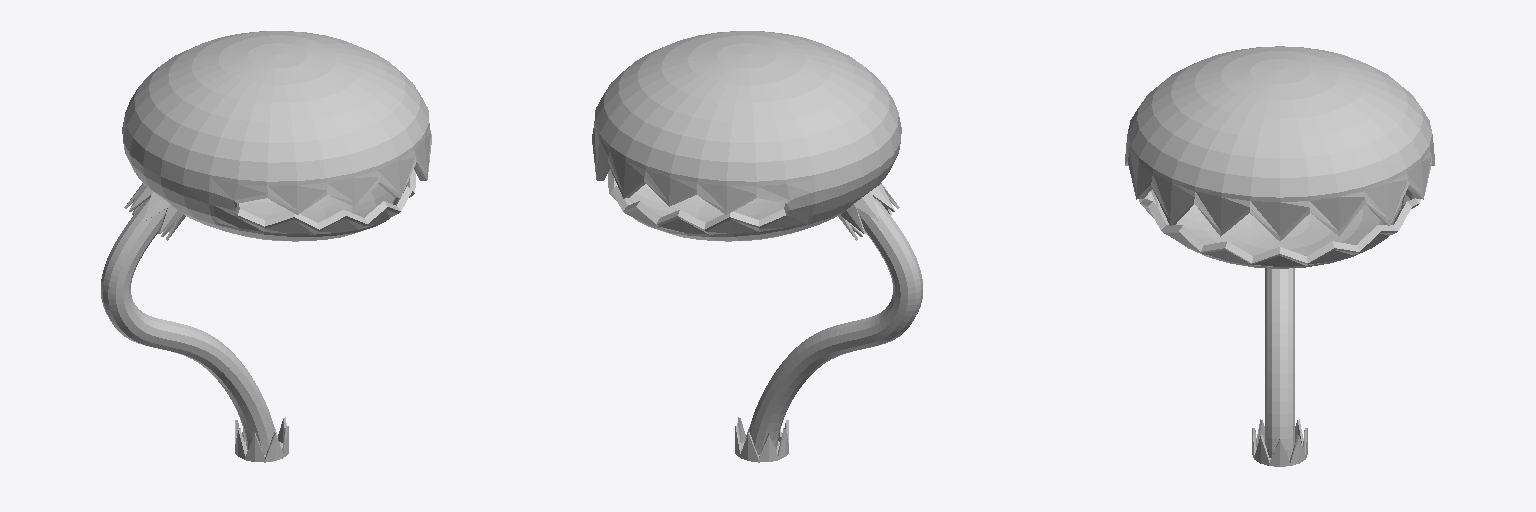
The model's file is MutantPlant.obj.
3 views of the same model, side by side, from view 1: azimuth 30°, elevation 25°; view 2: azimuth 150°, elevation 25°; view 3: azimuth 270°, elevation 25° (orthographic).
Visible parts, largest first — view 1: Cylinder.002; view 2: Cylinder.002; view 3: Cylinder.002.
Boxes of the visible parts, box(x1,y1,x2,y2) form: Cylinder.002: box(101, 31, 431, 462); Cylinder.002: box(592, 31, 922, 462); Cylinder.002: box(1125, 46, 1434, 466).
Size of the model in its own units: 2.33 by 2.86 by 2.05.